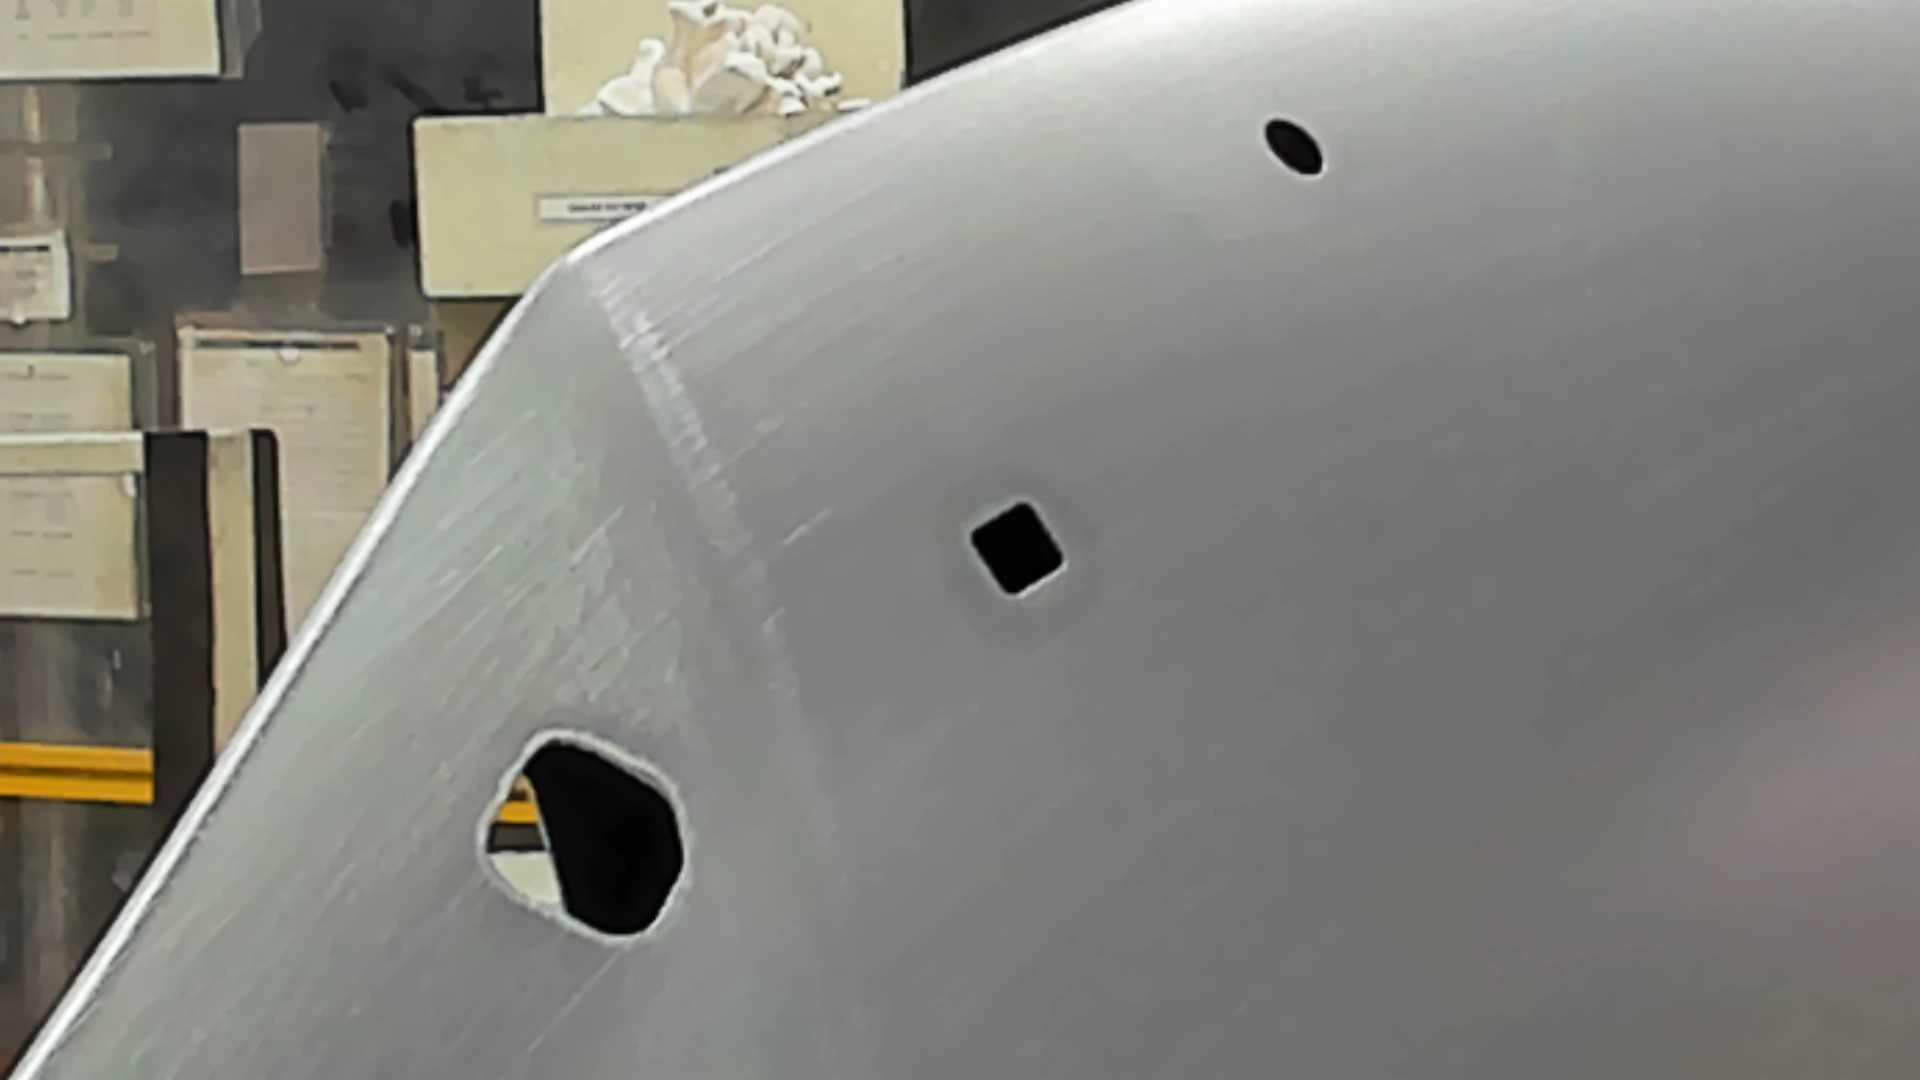chico: (1259, 111, 1327, 179)
grande: (471, 723, 694, 956)
mediano: (960, 495, 1073, 600)
